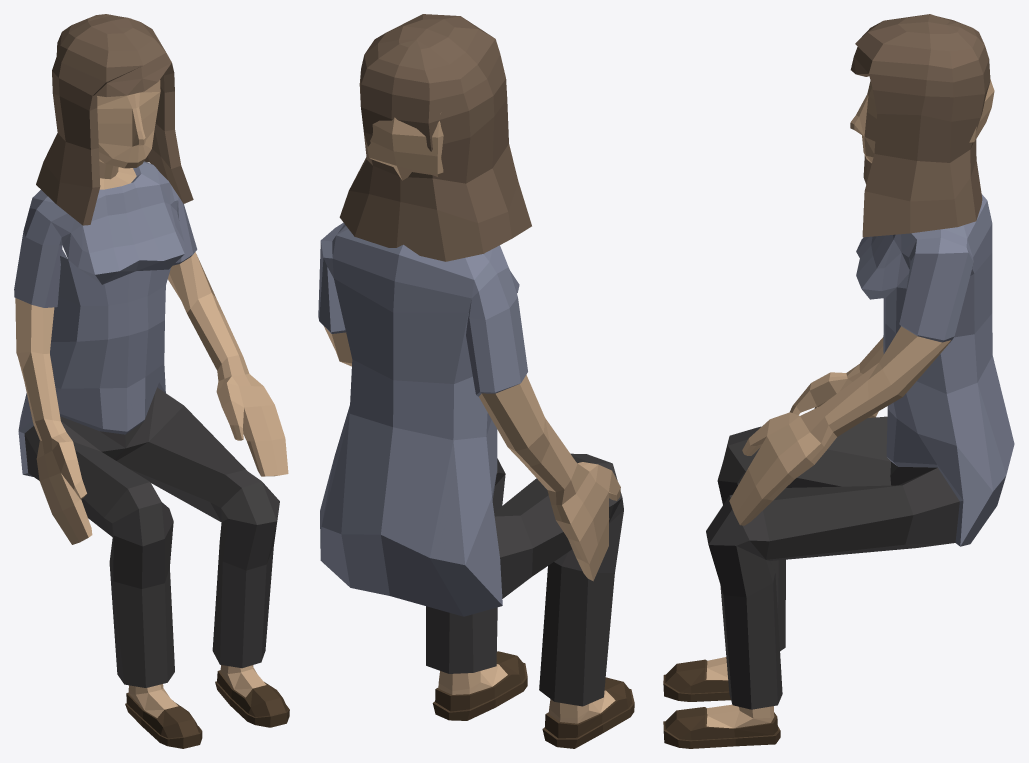
The model's file is female_sit_hair2.glb.
3 renders of one model, left to right at view 1: azimuth 30°, elevation 25°; view 2: azimuth 150°, elevation 25°; view 3: azimuth 270°, elevation 25°, orthographic. The views are drawn at different scales.
Parts seen in each view (by area): view 1: hair; view 2: hair; view 3: hair.
Part boxes in pixels (x1,y1,x2,y2): hair: [14, 14, 289, 748]; hair: [318, 14, 634, 748]; hair: [663, 14, 1014, 748].
Size of the model in its own units: 0.457 by 1.37 by 0.6319.
